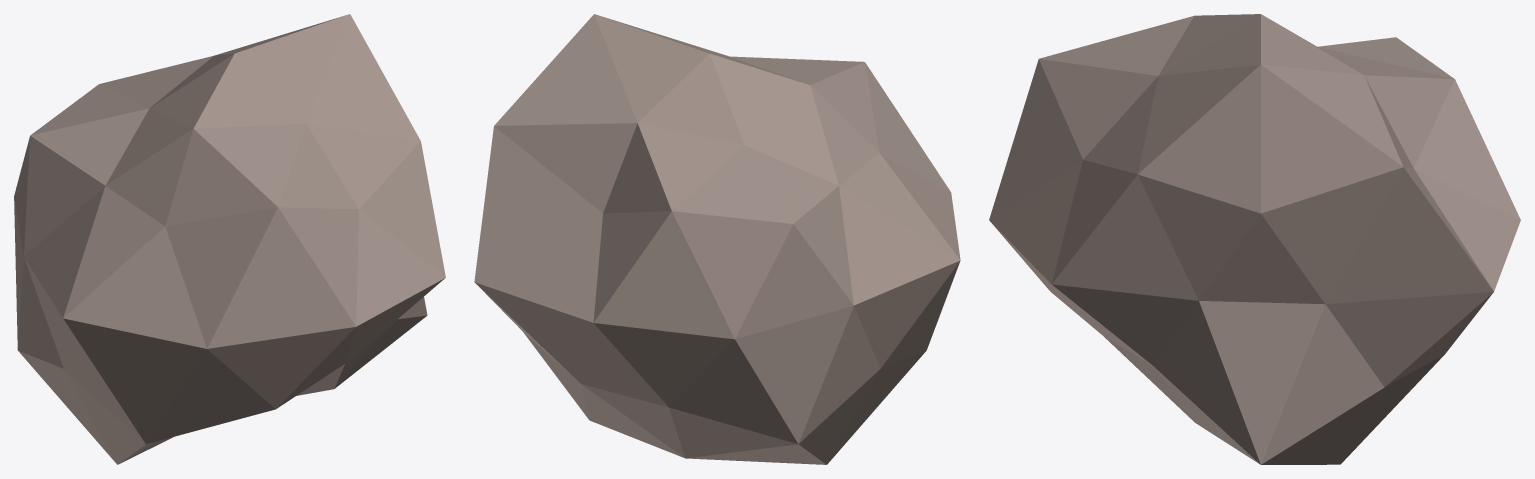
File: rock_ore_iron.glb
3 renders of one model, left to right at view 1: azimuth 30°, elevation 25°; view 2: azimuth 150°, elevation 25°; view 3: azimuth 270°, elevation 25°, orthographic. The views are drawn at different scales.
Visible parts, largest first — view 1: rock_ore_iron; view 2: rock_ore_iron; view 3: rock_ore_iron.
Part boxes in pixels (left/top/right/bottom): rock_ore_iron: left=14, top=14, right=445, bottom=464; rock_ore_iron: left=474, top=14, right=960, bottom=464; rock_ore_iron: left=989, top=14, right=1520, bottom=464.
Bounding box in the file's own units: 0.9032 × 0.842 × 0.9205.
